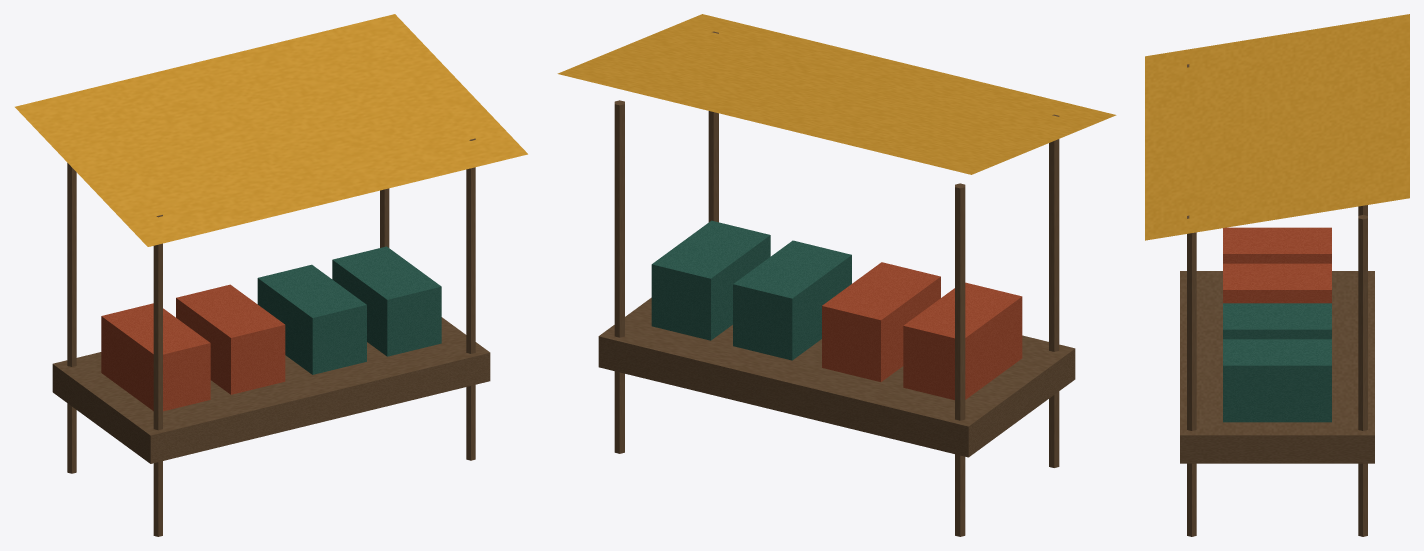
Rendered from market_stall.glb.
3 renders of one model, left to right at view 1: azimuth 30°, elevation 25°; view 2: azimuth 150°, elevation 25°; view 3: azimuth 270°, elevation 25°, orthographic. The views are drawn at different scales.
Parts seen in each view (by area): view 1: MarketStall; view 2: MarketStall; view 3: MarketStall.
Boxes of the visible parts, x1,y1,x2,y2 form: MarketStall: (15, 14, 527, 536); MarketStall: (557, 14, 1116, 536); MarketStall: (1145, 14, 1409, 536).
Bounding box in the file's own units: 2.8 × 2.5 × 1.7.
1 material, 1 textured.
